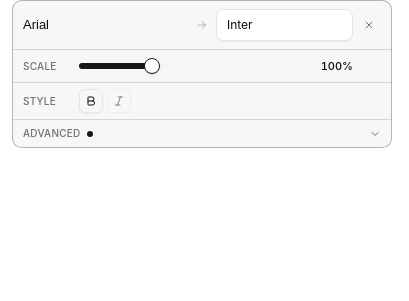
Test: FontMappingRow › announces when collapsed advanced settings hold overrides
This screenshot has width=409, height=301.
Click the button named "Advanced (overrides set)".
click(52, 133)  # box [13,119,391,147]
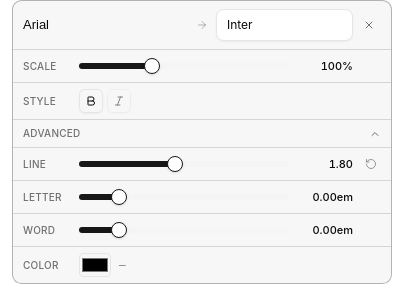
expect the slider named "Line" is shown: met, box [167,156,183,172]
expect the colour field named "Text color" is shown: met, box [79,253,111,277]
